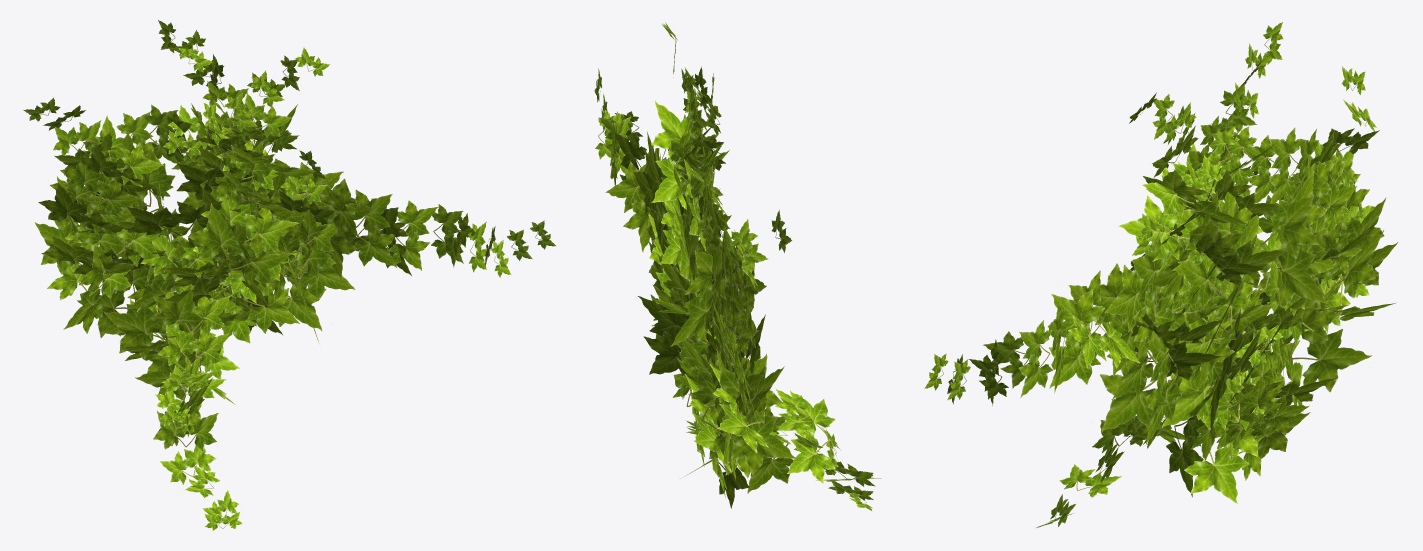
The model's file is ivy_house01_36.fbx.
3 renders of one model, left to right at view 1: azimuth 30°, elevation 25°; view 2: azimuth 150°, elevation 25°; view 3: azimuth 270°, elevation 25°, orthographic. The views are drawn at different scales.
Parts seen in each view (by area): view 1: pack1; view 2: pack1; view 3: pack1.
Part boxes in pixels (x1=…): pack1: x1=23, y1=20, x2=556, y2=530; pack1: x1=594, y1=22, x2=881, y2=510; pack1: x1=924, y1=21, x2=1397, y2=527.
Size of the model in its own units: 1.14 by 1.35 by 1.11.
Materials: 1 (1 with a texture image).
